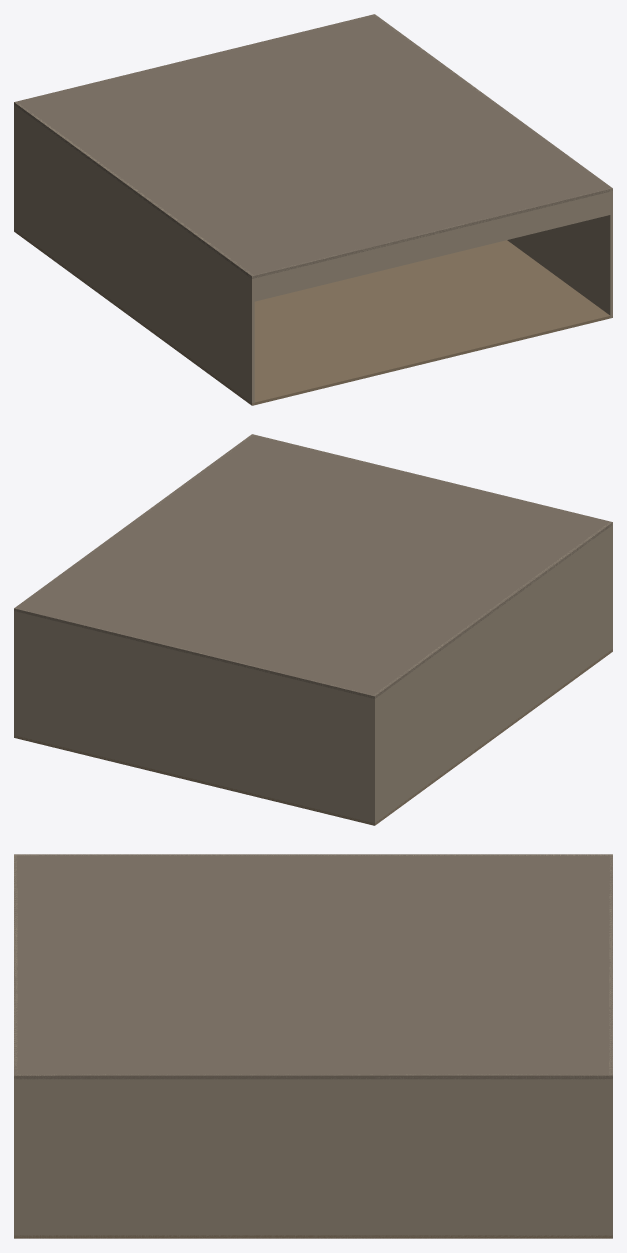
The model's file is attic_dim_001.glb.
The picture shows the model from 3 angles, top to bottom: view 1: azimuth 30°, elevation 25°; view 2: azimuth 150°, elevation 25°; view 3: azimuth 270°, elevation 25°; orthographic projection. The views are drawn at different scales.
Parts seen in each view (by area): view 1: ceiling, floor, left_wall, front_top, right_wall; view 2: ceiling, back_wall, left_wall, floor; view 3: ceiling, right_wall, floor, back_wall, front_top.
Boxes of the visible parts, x1,y1,x2,y2 form: ceiling: (14, 14, 612, 278); floor: (14, 229, 612, 405); left_wall: (14, 102, 254, 405); front_top: (250, 188, 610, 301); right_wall: (375, 15, 612, 318); ceiling: (14, 434, 612, 698); back_wall: (14, 608, 375, 825); left_wall: (372, 523, 612, 825); floor: (14, 649, 612, 825); ceiling: (14, 854, 612, 1079); right_wall: (14, 1074, 612, 1238); floor: (14, 1235, 612, 1238); back_wall: (609, 854, 612, 1238); front_top: (14, 855, 17, 1107).
Size of the model in its own units: 7 by 2.4 by 8.
